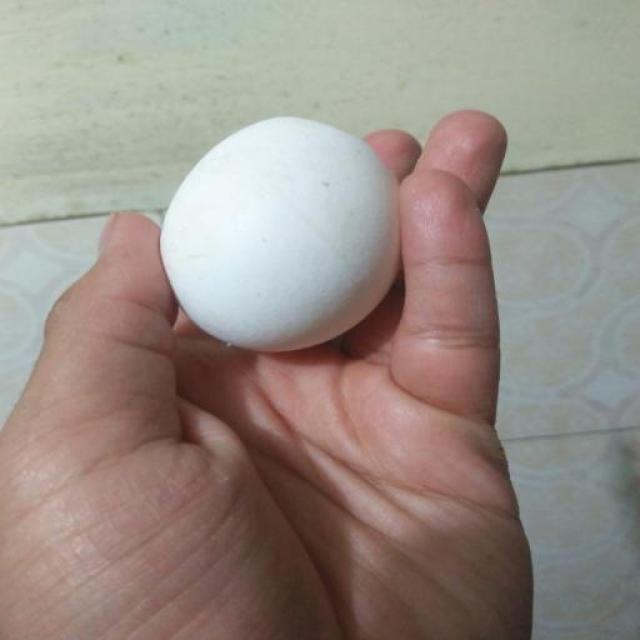telur: (160, 118, 397, 351)
